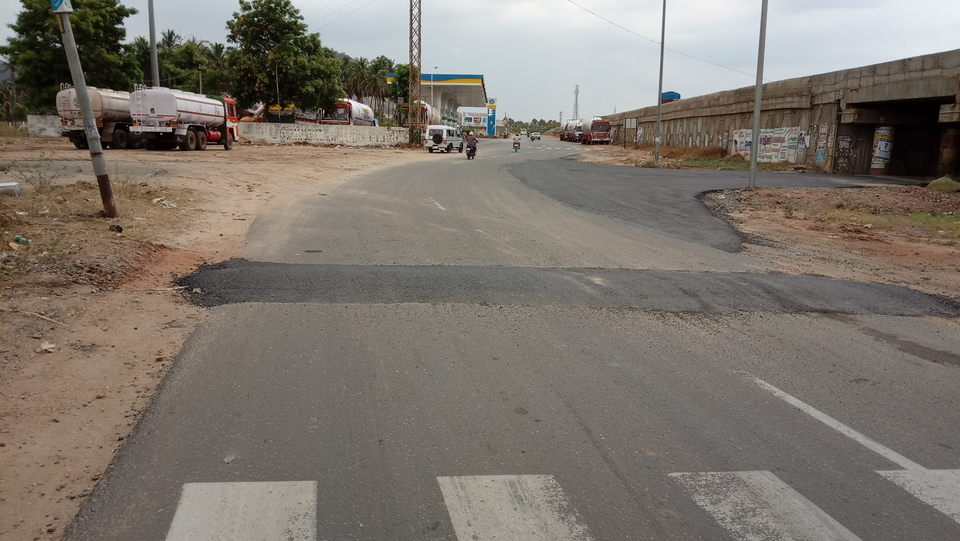bump: (177, 256, 960, 320)
